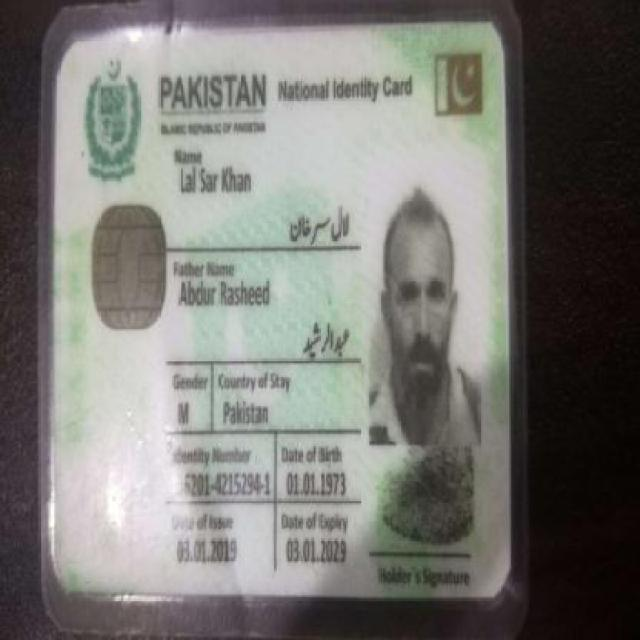Front: (45, 22, 517, 609)
